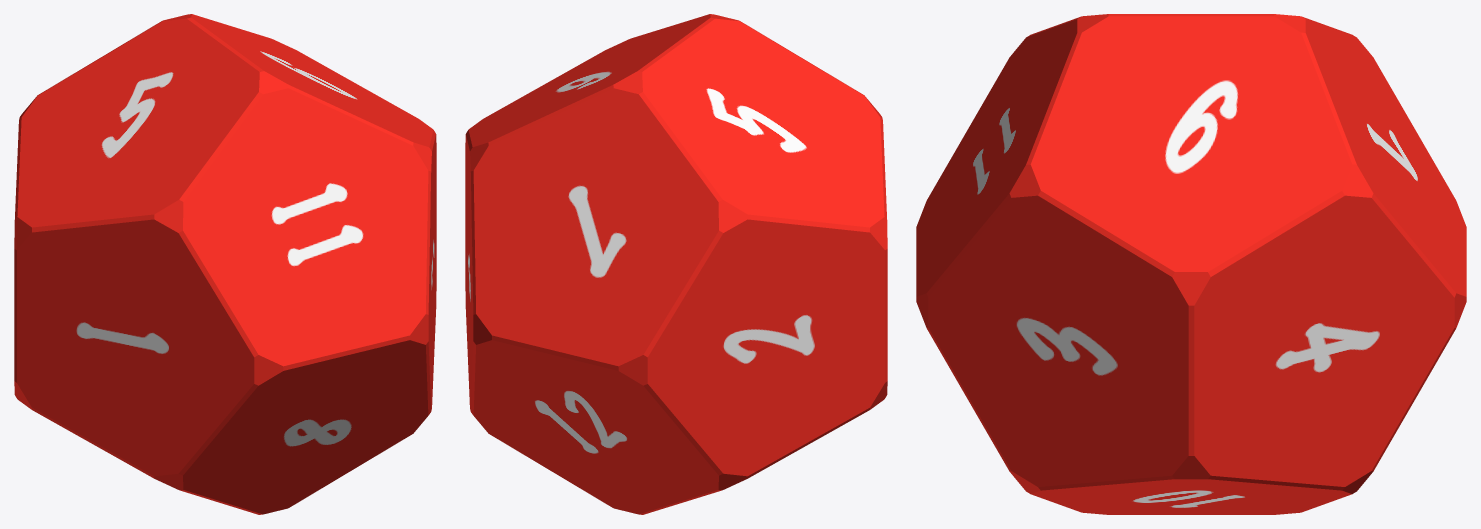
The picture shows the model from 3 angles, left to right: view 1: azimuth 30°, elevation 25°; view 2: azimuth 150°, elevation 25°; view 3: azimuth 270°, elevation 25°; orthographic projection. The views are drawn at different scales.
Parts seen in each view (by area): view 1: Solid_001; view 2: Solid_001; view 3: Solid_001.
Boxes of the visible parts, box(x1,y1,x2,y2) form: Solid_001: box(14, 14, 436, 514); Solid_001: box(465, 14, 887, 514); Solid_001: box(916, 14, 1466, 514).
Size of the model in its own units: 1.86 by 1.86 by 1.86.
Materials: 1 (1 with a texture image).
